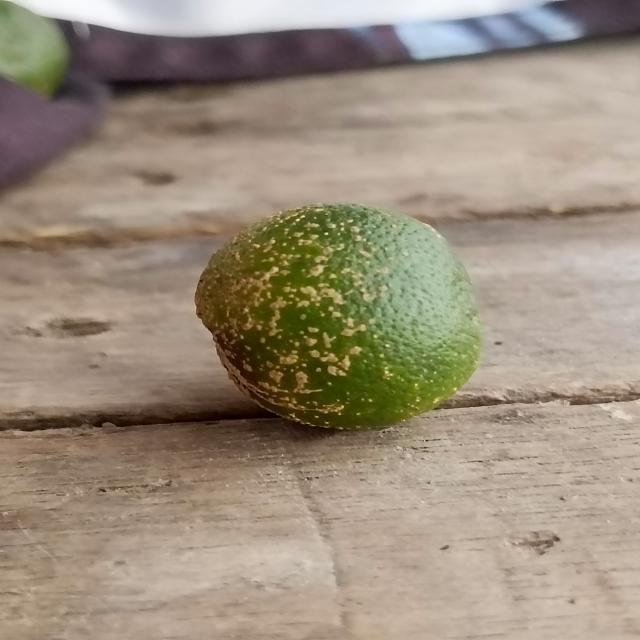scab: (181, 203, 504, 436)
